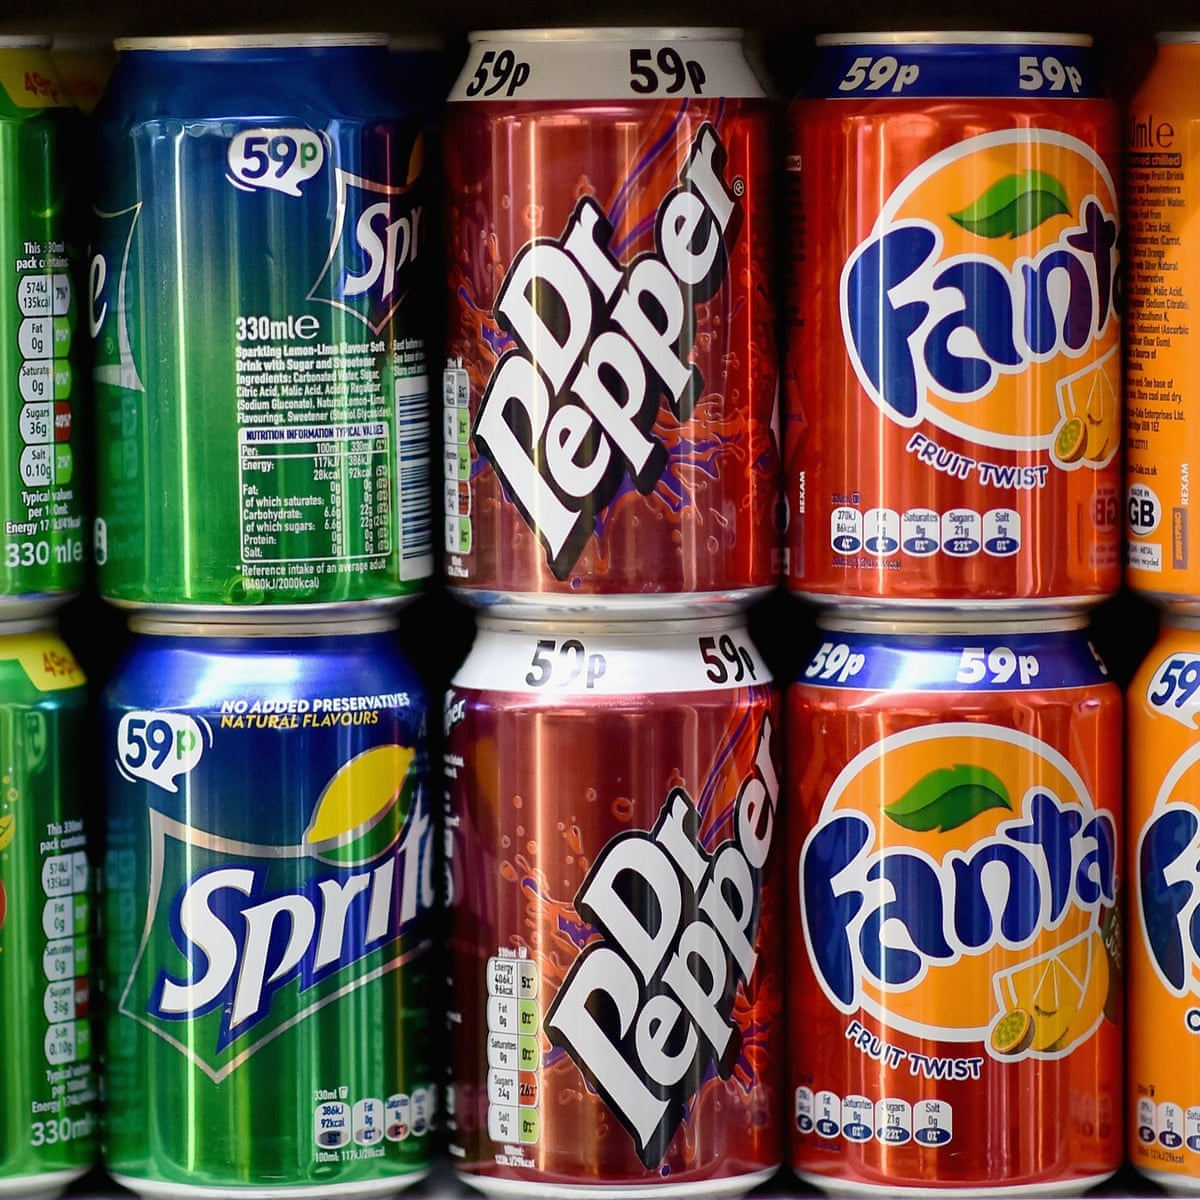drpepper: (484, 122, 760, 580), (549, 718, 778, 1158)
fanta: (810, 797, 1116, 1005), (843, 192, 1119, 410)
sprite: (129, 796, 433, 1073)
